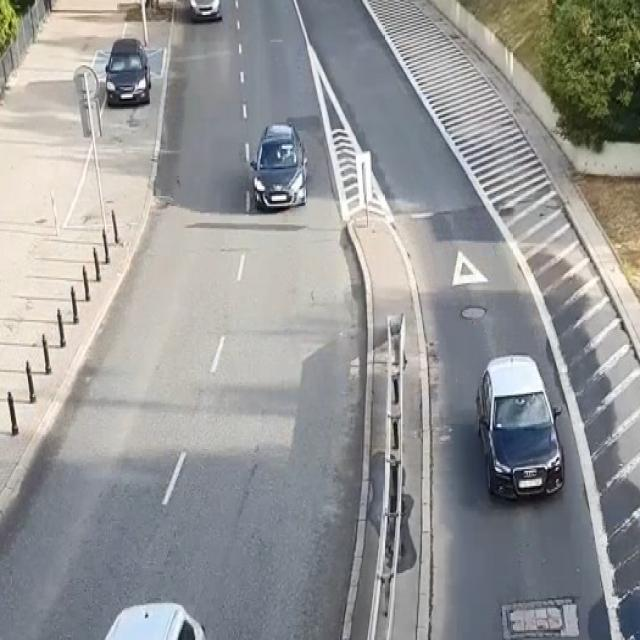car: (476, 355, 564, 498), (250, 122, 308, 208), (106, 39, 150, 104)
